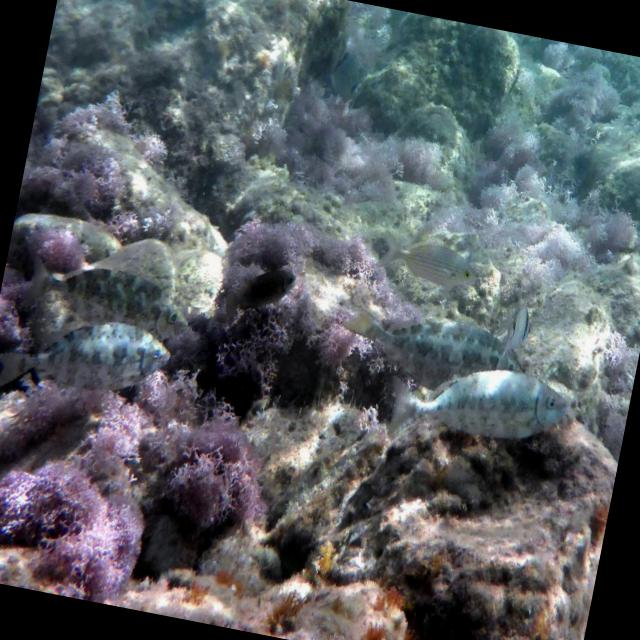Sokar Baligi: (376, 338, 584, 488), (0, 297, 182, 429)
